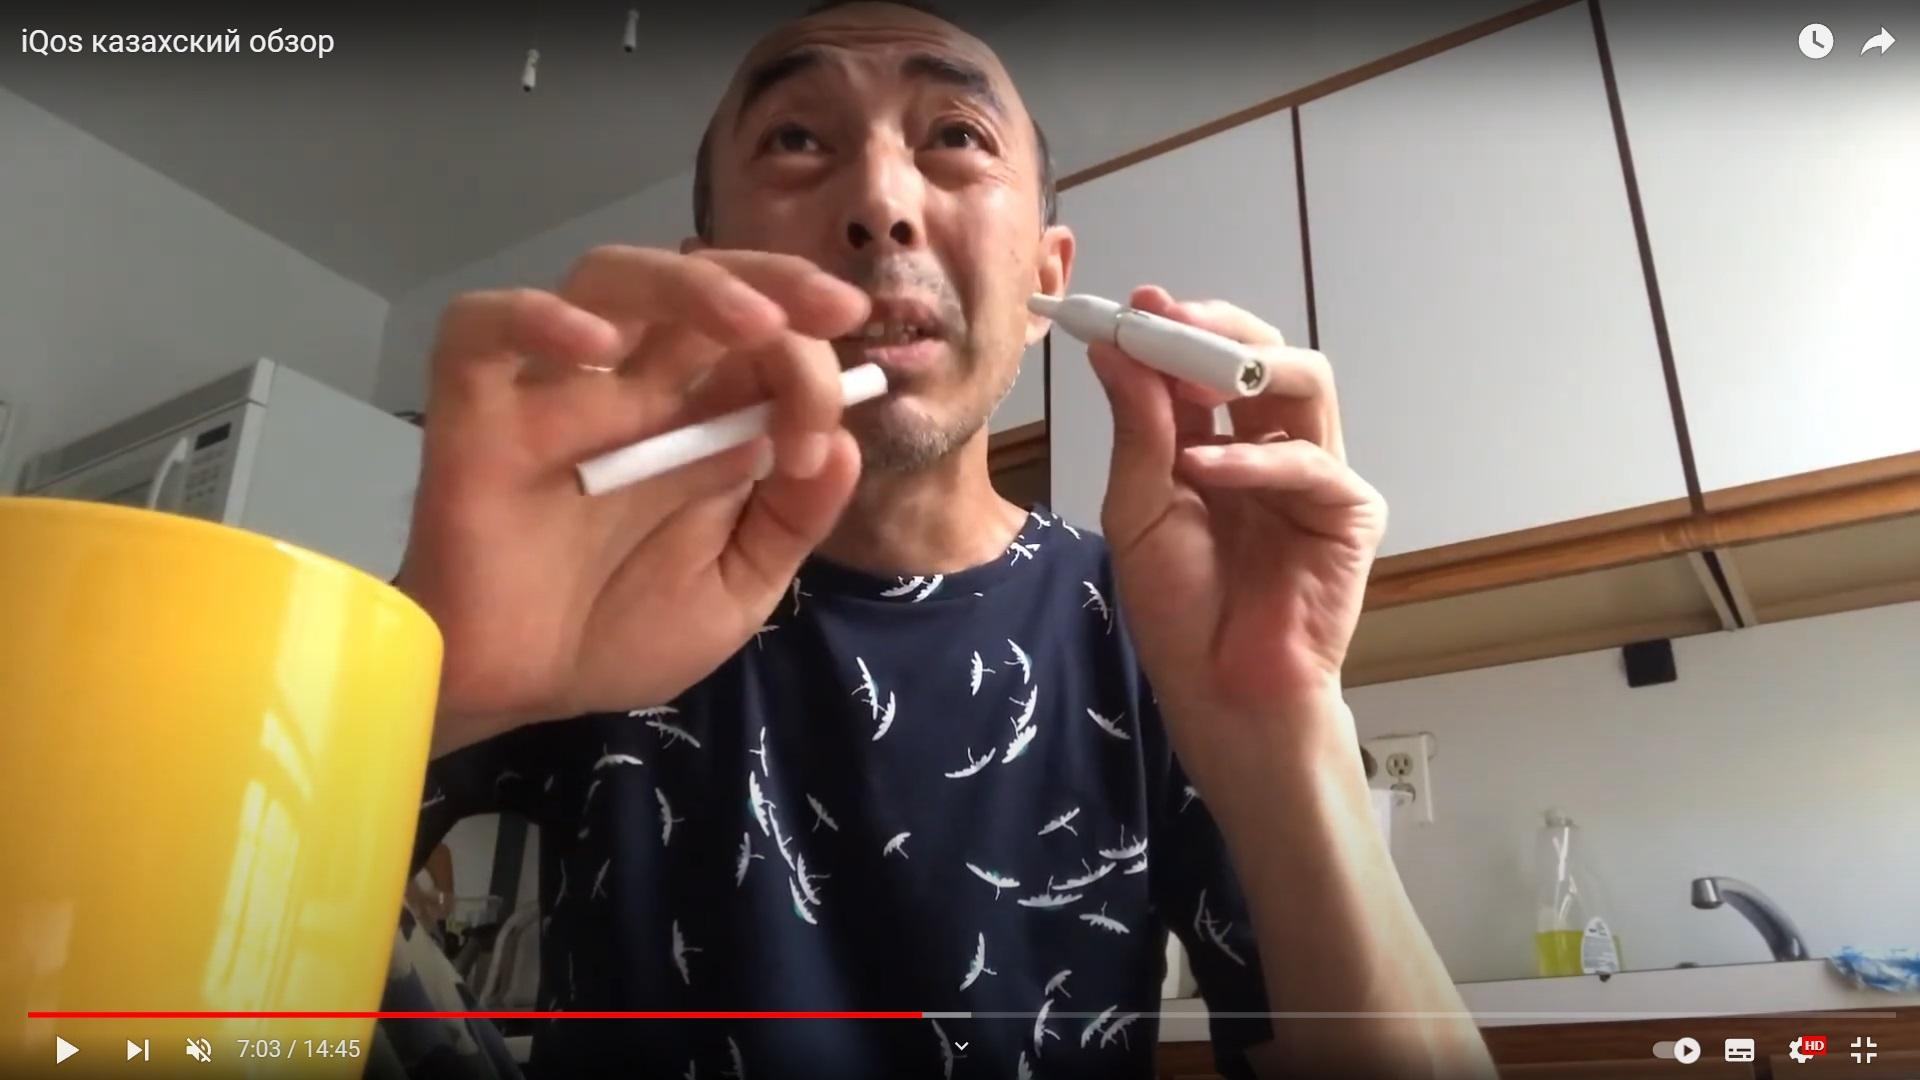cigarette: (574, 361, 889, 497)
iqos: (1029, 291, 1271, 397)
